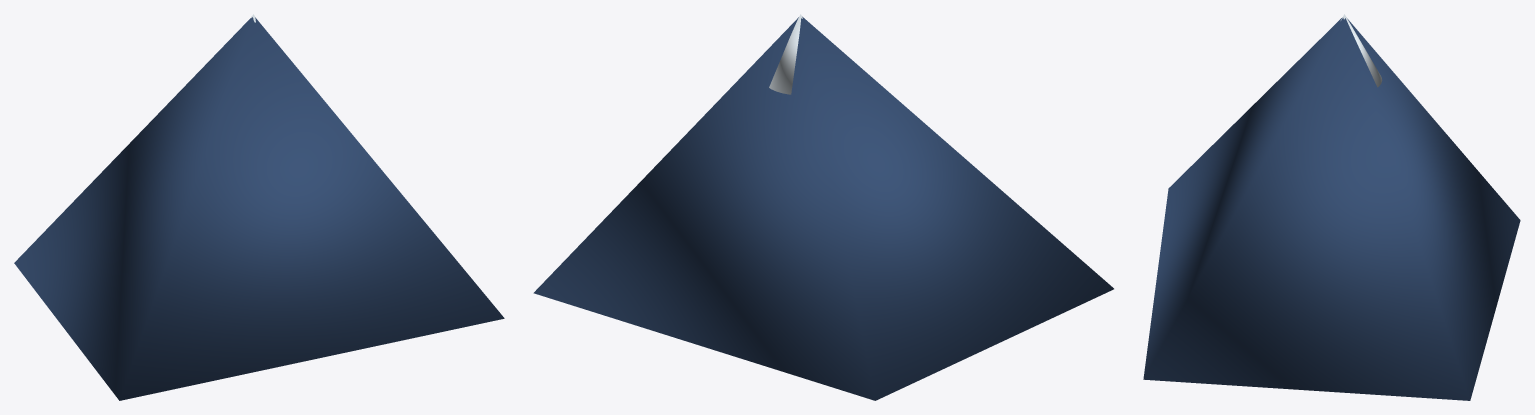
File: mountain-lite.glb
3 renders of one model, left to right at view 1: azimuth 30°, elevation 25°; view 2: azimuth 150°, elevation 25°; view 3: azimuth 270°, elevation 25°, orthographic. The views are drawn at different scales.
Visible parts, largest first — view 1: Mountain; view 2: Mountain; view 3: Mountain.
Part boxes in pixels (bbox=[...]): Mountain: bbox=[14, 14, 504, 400]; Mountain: bbox=[533, 14, 1113, 400]; Mountain: bbox=[1143, 14, 1520, 400].
Size of the model in its own units: 2 by 1.25 by 1.5.
